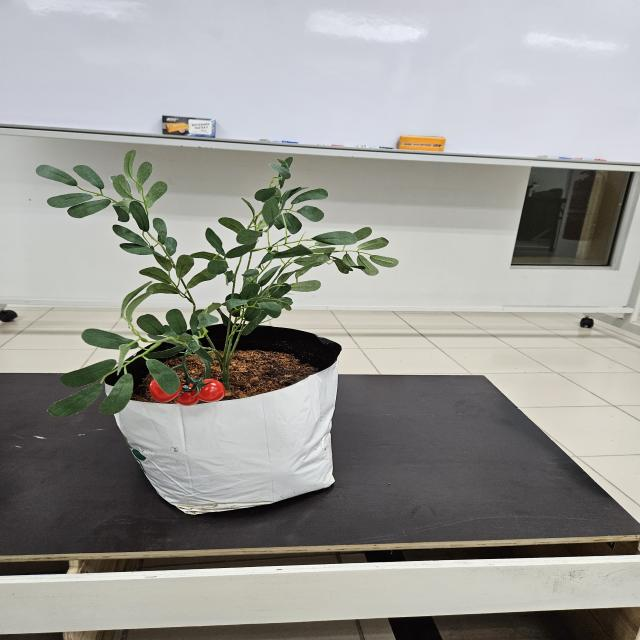Soilbag: (104, 323, 342, 515)
Tomato: (149, 377, 227, 405)
plant: (35, 150, 399, 418)
